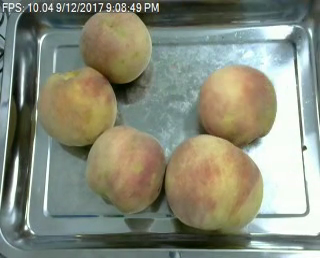Peach: (163, 131, 263, 233), (84, 125, 167, 213), (197, 63, 276, 145), (38, 67, 116, 147), (79, 6, 152, 84)
